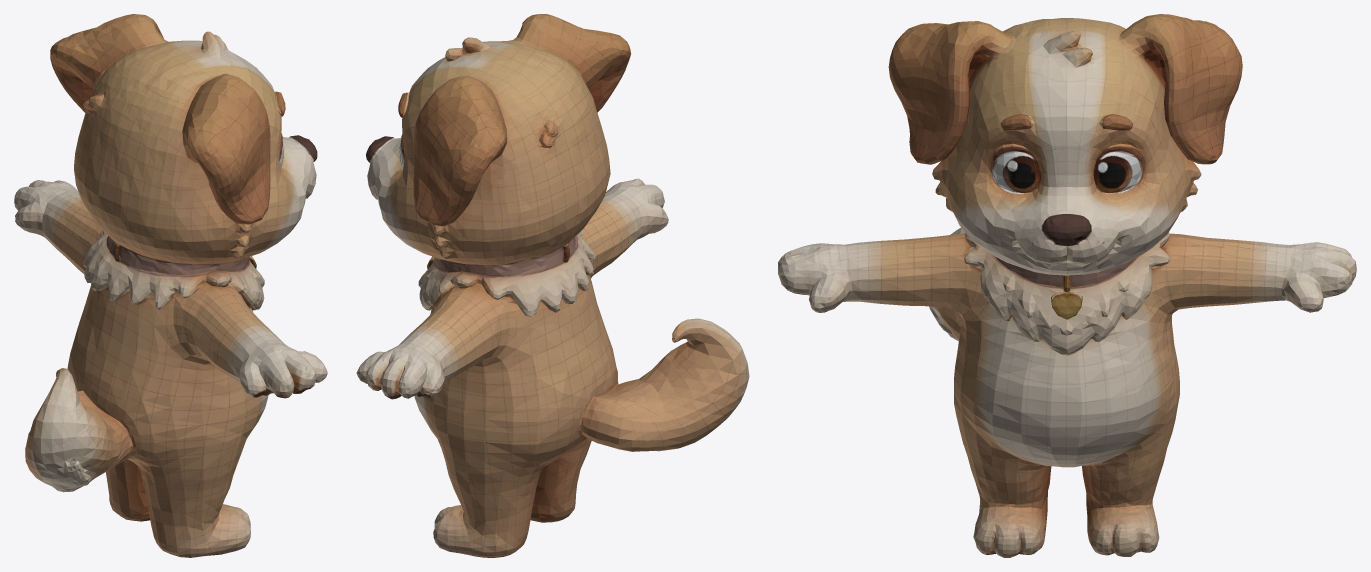
Rendered from case1.glb.
The picture shows the model from 3 angles, left to right: view 1: azimuth 30°, elevation 25°; view 2: azimuth 150°, elevation 25°; view 3: azimuth 270°, elevation 25°; orthographic projection. The views are drawn at different scales.
Visible parts, largest first — view 1: tripo_node_165e671d-b9f4-49ad-b25c-338cceb29fc3; view 2: tripo_node_165e671d-b9f4-49ad-b25c-338cceb29fc3; view 3: tripo_node_165e671d-b9f4-49ad-b25c-338cceb29fc3.
Boxes of the visible parts, x1,y1,x2,y2 form: tripo_node_165e671d-b9f4-49ad-b25c-338cceb29fc3: [14, 14, 327, 557]; tripo_node_165e671d-b9f4-49ad-b25c-338cceb29fc3: [356, 14, 749, 557]; tripo_node_165e671d-b9f4-49ad-b25c-338cceb29fc3: [778, 14, 1356, 557].
Size of the model in its own units: 0.7084 by 1 by 0.9922.
1 material, 1 textured.
